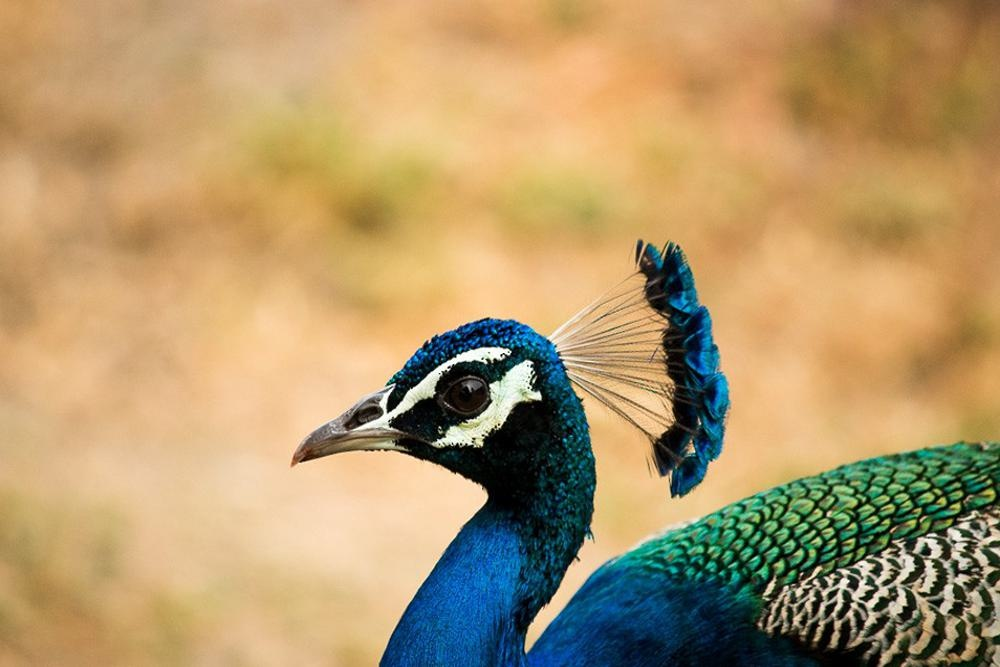peacock: (309, 241, 1000, 667)
